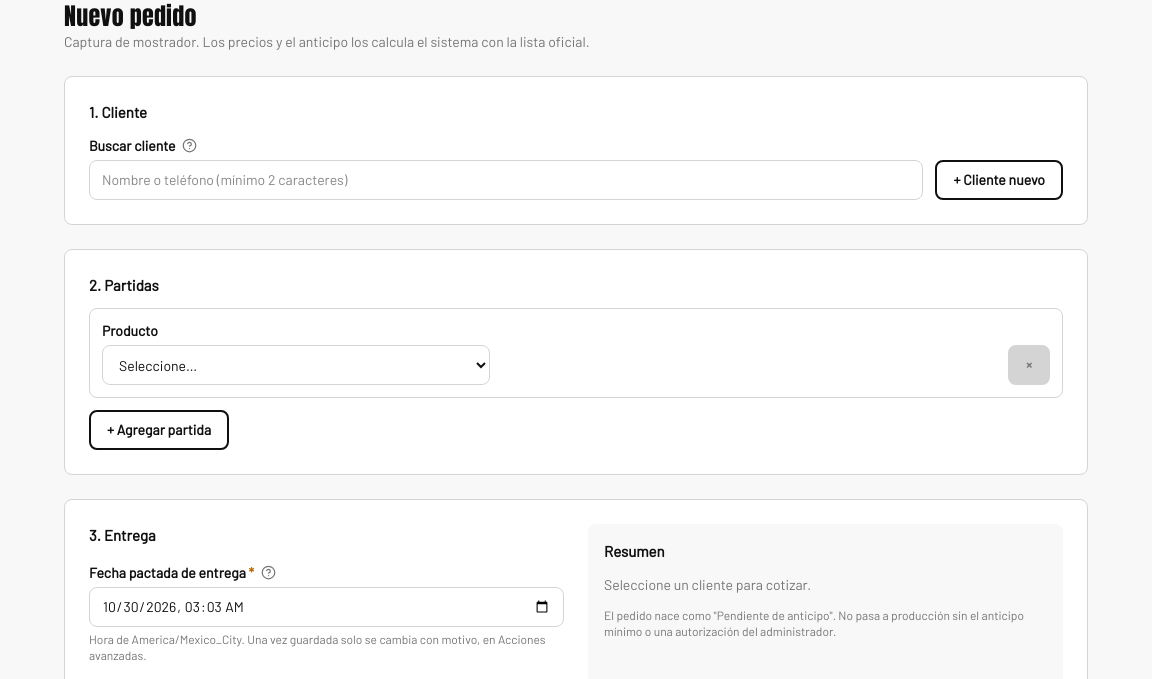
alta rápida de cliente dentro del pedido guarda el cliente y no envía el pedido
Click the button "+ Cliente nuevo". click: {"x": 999, "y": 180}
box: top-left (935, 160), bottom-right (1063, 200)
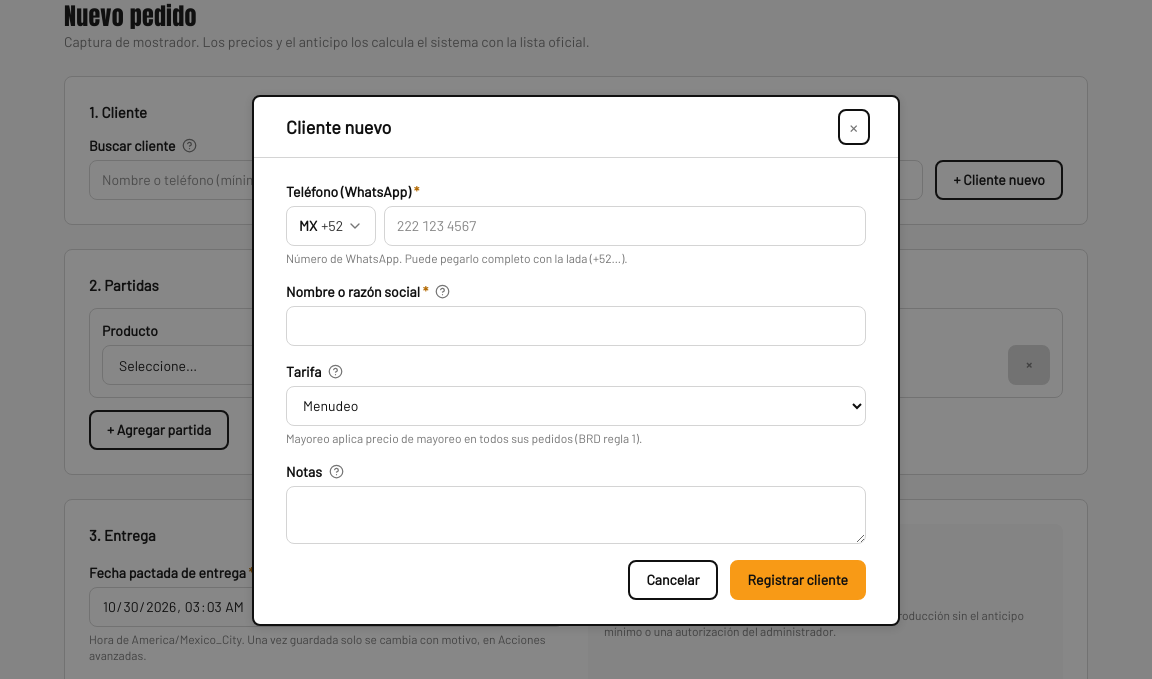
Type "6671234567" into the field labelled "Teléfono (WhatsApp) *". click: {"x": 625, "y": 226}
box: top-left (384, 206), bottom-right (866, 246)
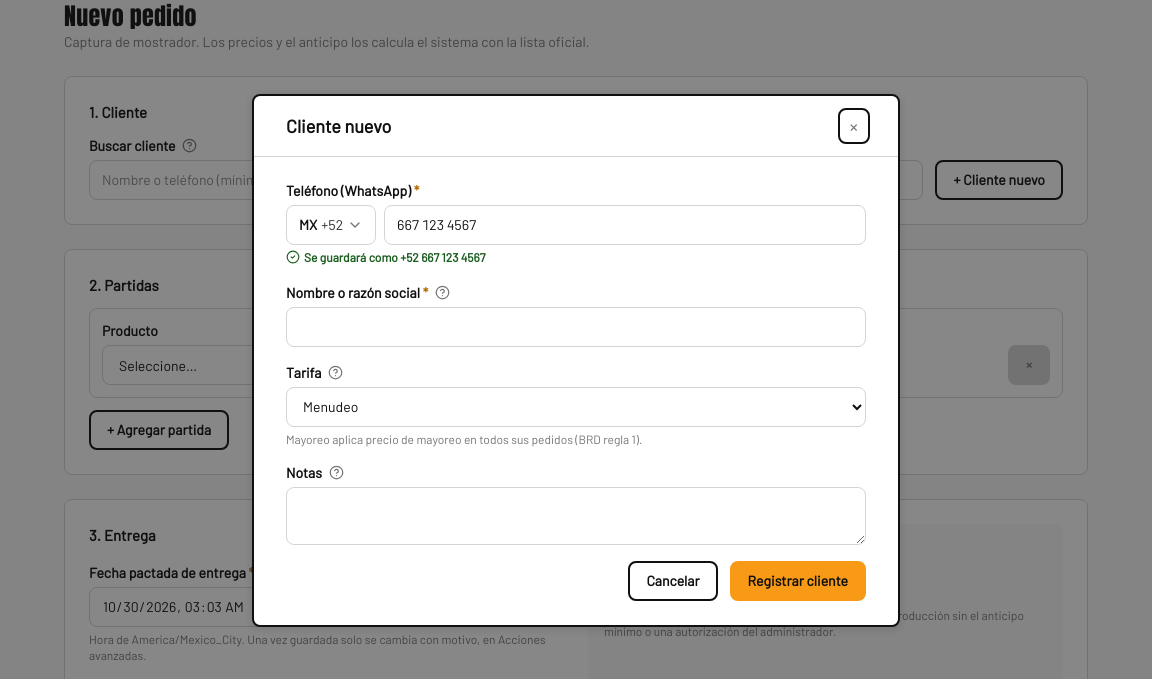
Type "Ana" into the field labelled "Nombre o razón social *". click: {"x": 576, "y": 326}
box: top-left (286, 306), bottom-right (866, 346)
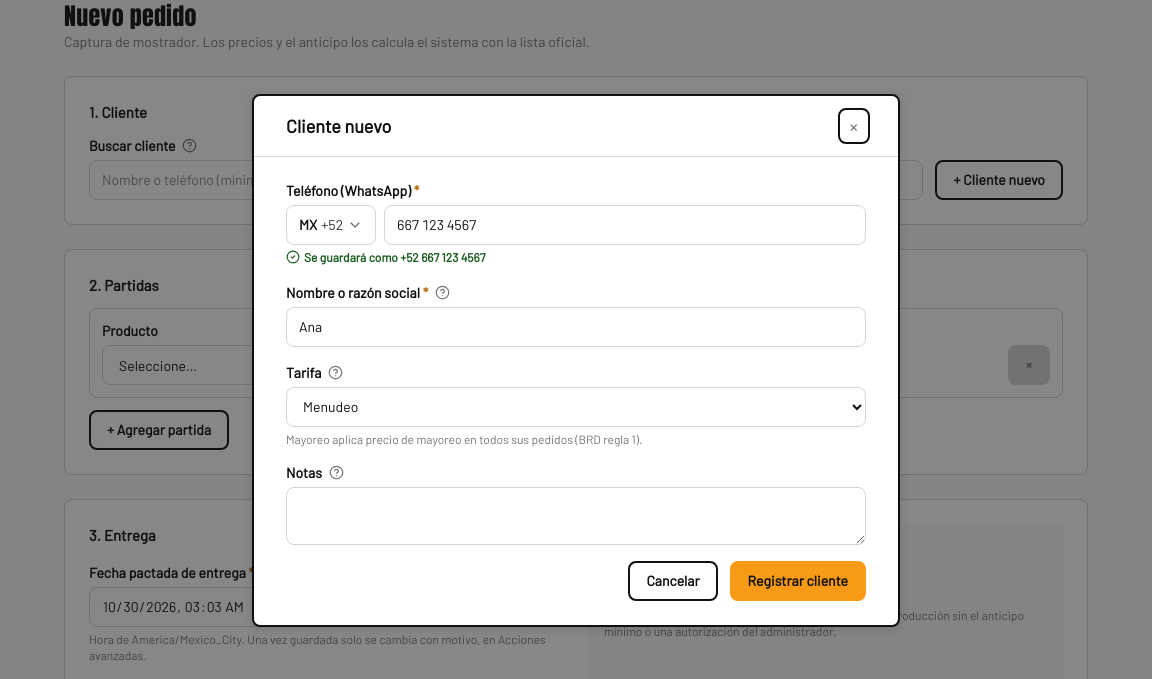
Click the button "Registrar cliente". click: {"x": 798, "y": 580}
box: top-left (730, 560), bottom-right (866, 600)
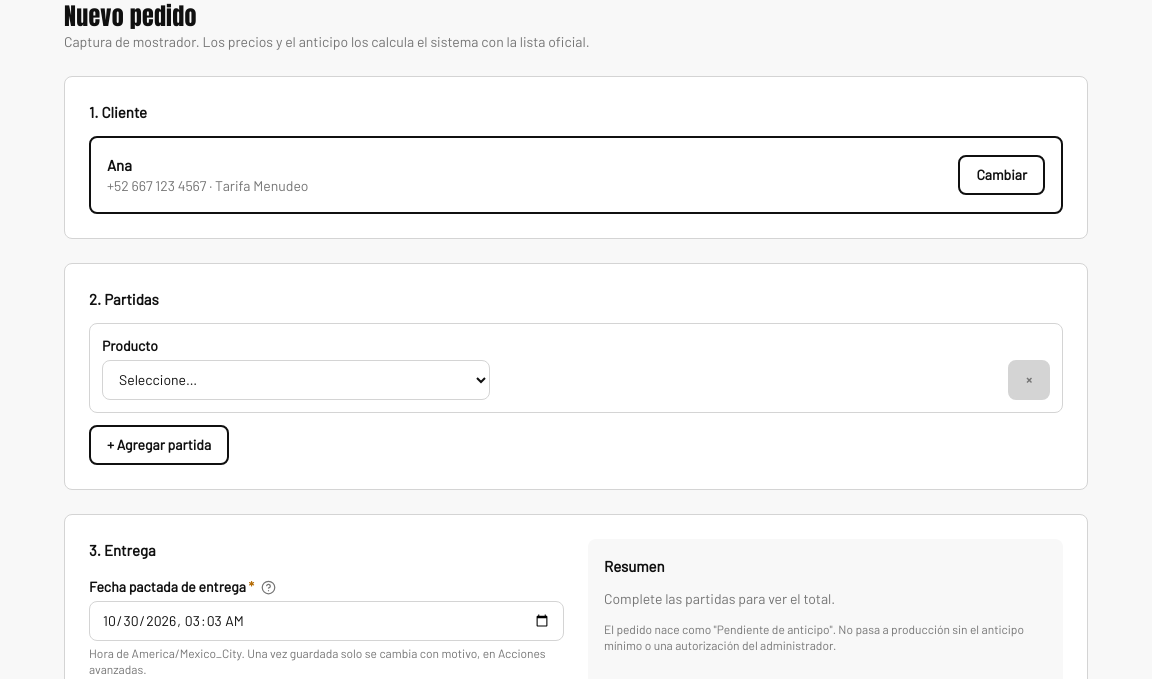
Now the text "Ana" is shown, box top-left (107, 156), bottom-right (132, 174)
